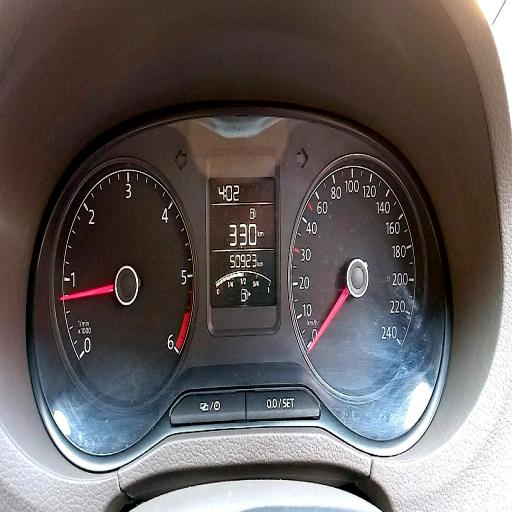tachometer: (50, 157, 197, 410)
